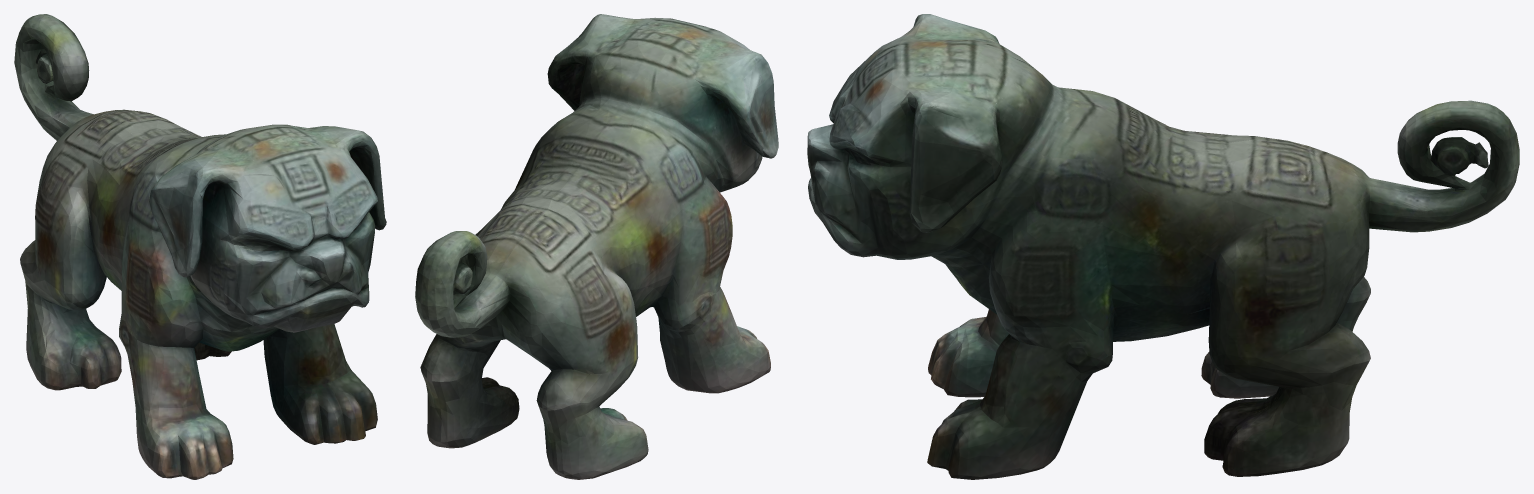
File: bogTrollPup.glb
The picture shows the model from 3 angles, left to right: view 1: azimuth 30°, elevation 25°; view 2: azimuth 150°, elevation 25°; view 3: azimuth 270°, elevation 25°; orthographic projection. The views are drawn at different scales.
Visible parts, largest first — view 1: world; view 2: world; view 3: world.
Part boxes in pixels (x1,y1,x2,y2): world: (14,14,386,479); world: (415,14,778,479); world: (807,14,1519,479).
Bounding box in the file's own units: 0.4174 × 0.573 × 1.
1 material, 1 textured.
